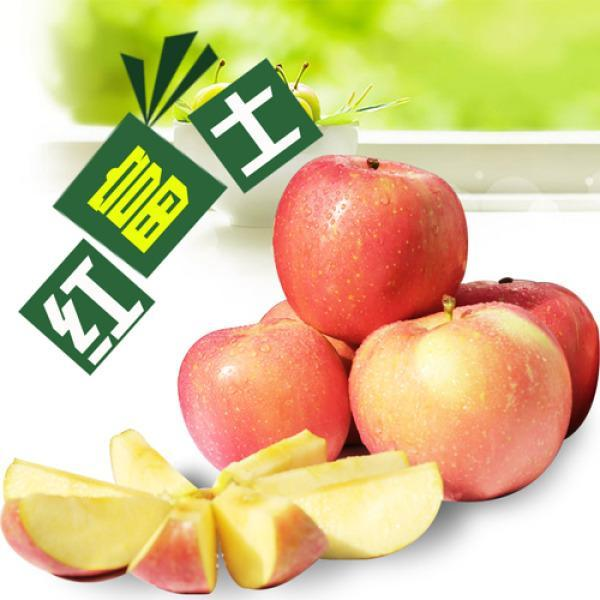apple: (212, 169, 595, 503), (0, 426, 449, 592), (343, 299, 579, 513), (218, 316, 486, 502), (269, 151, 467, 344), (214, 447, 443, 575), (186, 316, 351, 490), (448, 280, 597, 421), (7, 463, 175, 574), (126, 501, 220, 595)
